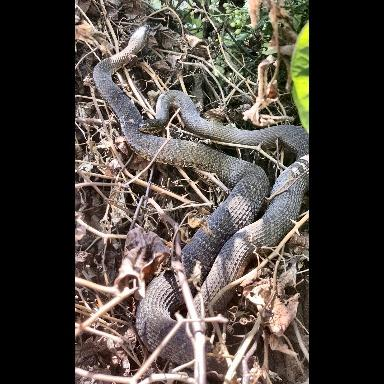snake: (87, 20, 318, 379)
